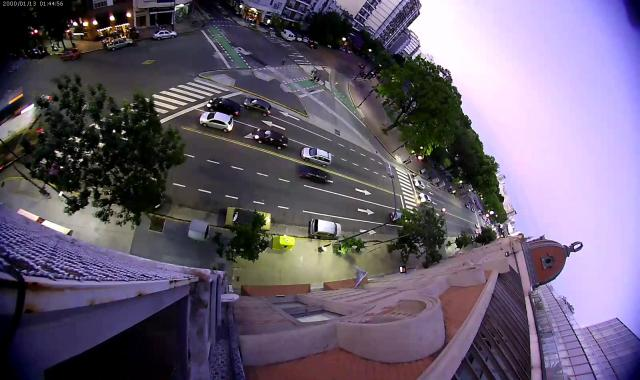bus: (0, 105, 47, 172), (0, 87, 29, 124)
car: (224, 206, 272, 230), (199, 111, 234, 132), (207, 97, 241, 118), (255, 129, 289, 150), (298, 164, 329, 185), (300, 148, 332, 168), (309, 219, 342, 238), (244, 97, 273, 116), (106, 37, 134, 52), (26, 45, 49, 59), (152, 29, 177, 41), (59, 48, 82, 61), (280, 29, 294, 42), (390, 211, 404, 223), (413, 179, 425, 191), (419, 193, 432, 204), (308, 42, 319, 50), (296, 34, 302, 42), (303, 36, 309, 43), (358, 64, 365, 70), (464, 203, 470, 209), (474, 229, 480, 234), (471, 208, 476, 213), (475, 224, 480, 228)
